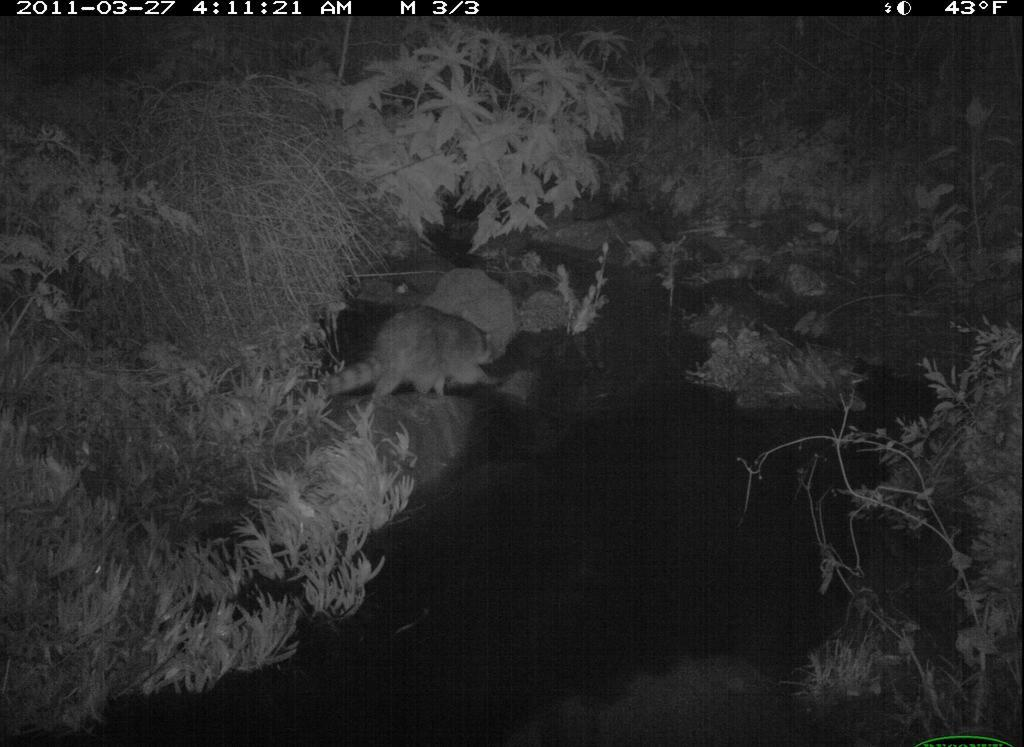raccoon: (309, 297, 505, 429)
